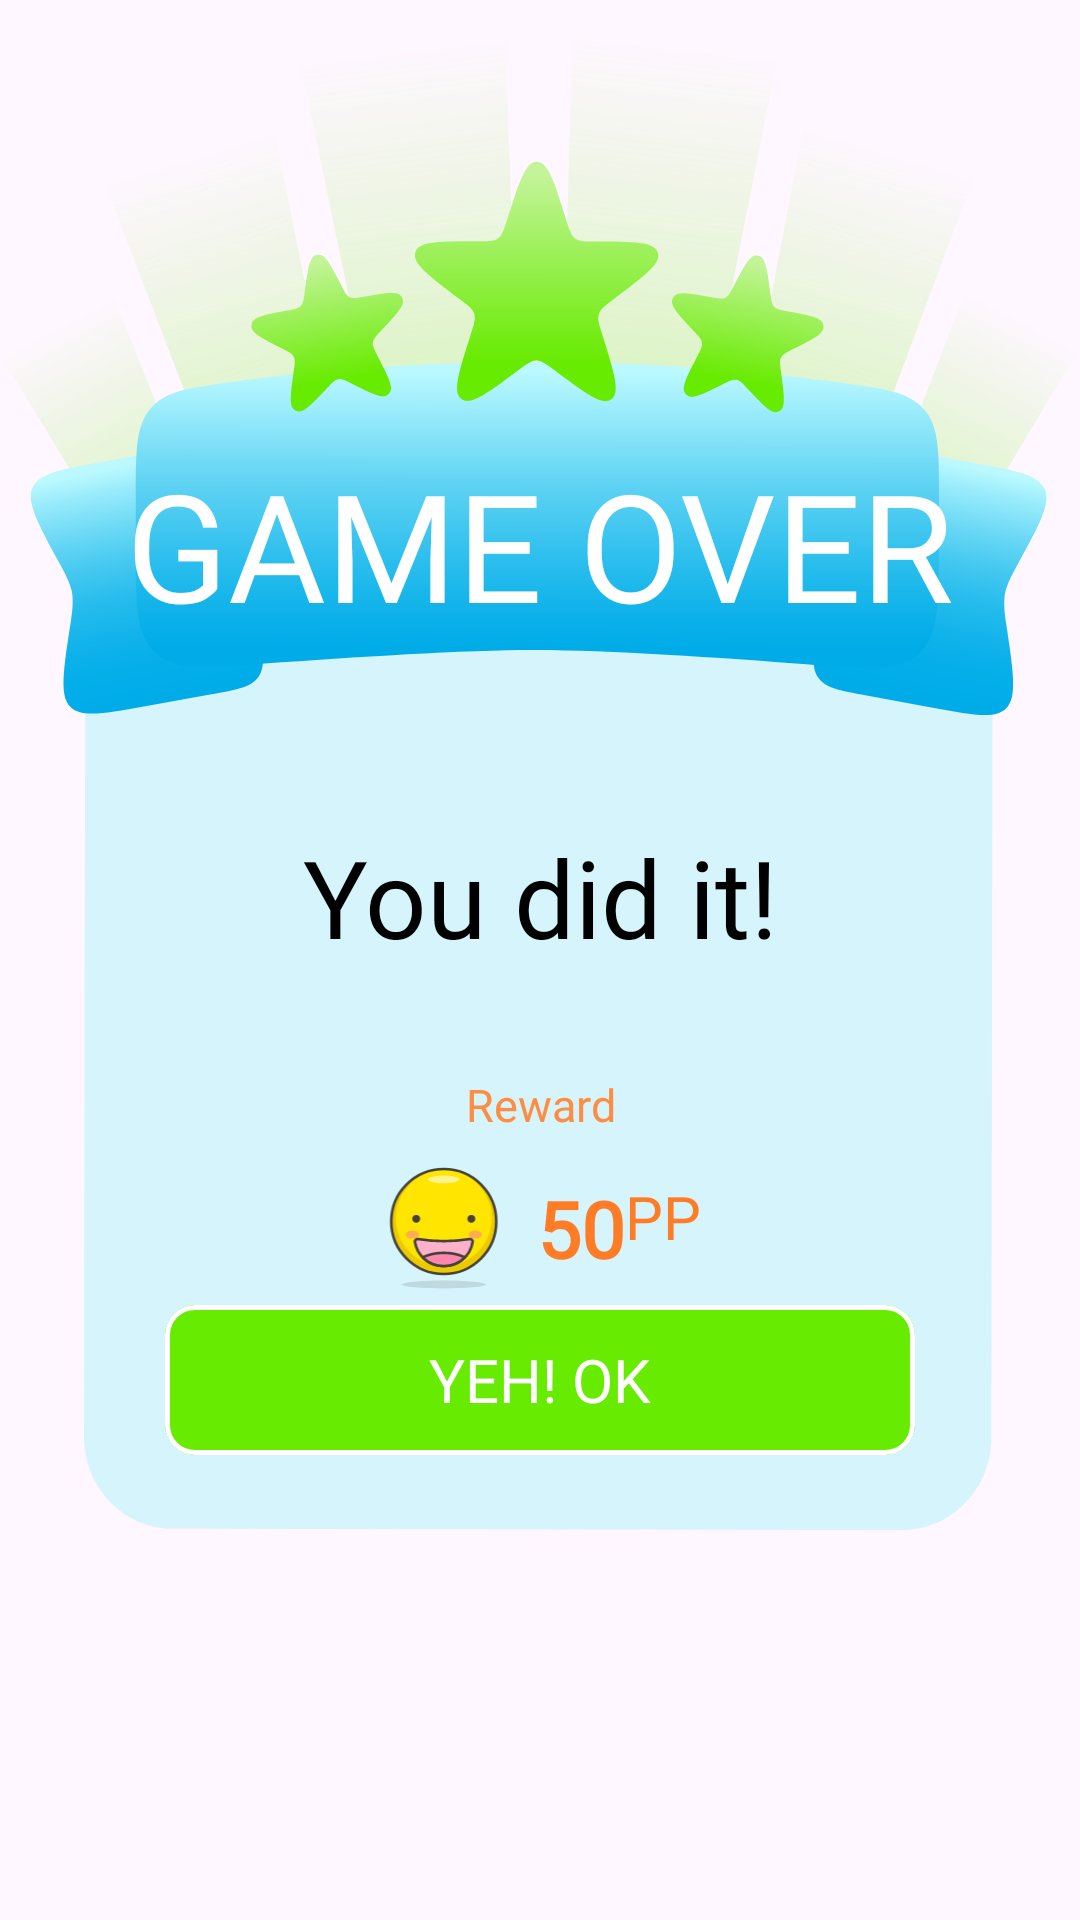

Where to tap for icons on this 1080x1920 app screen, as [x,y]:
happy emoji: [443,1227]
